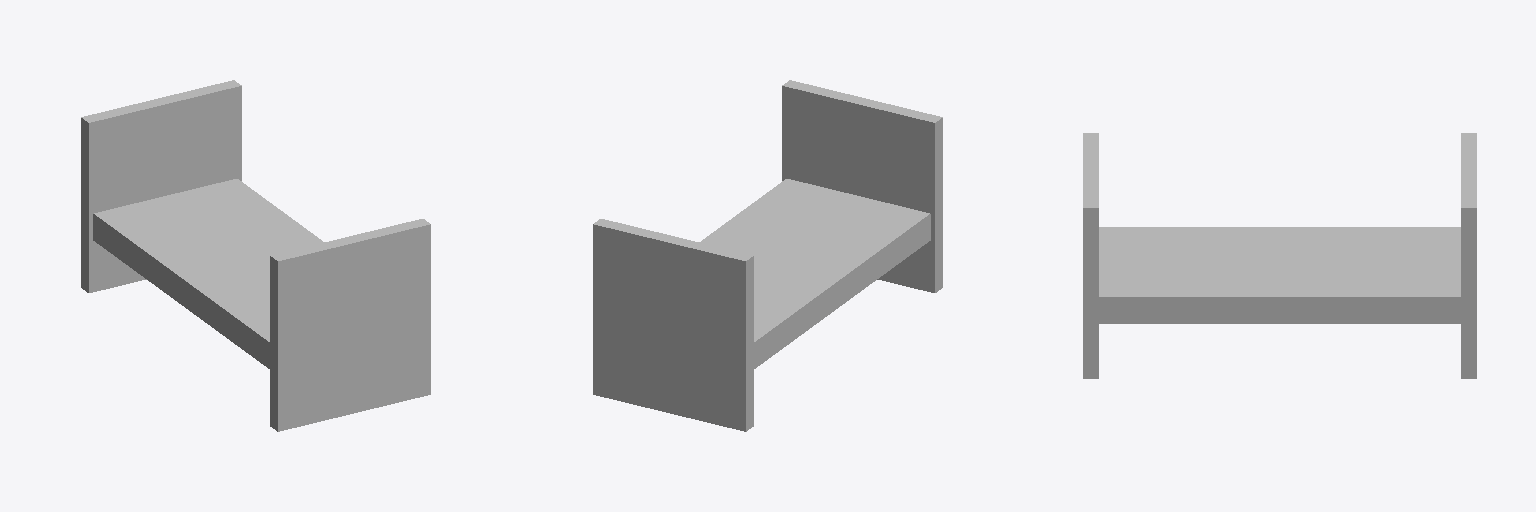
Rendered from Bedobj.obj.
3 renders of one model, left to right at view 1: azimuth 30°, elevation 25°; view 2: azimuth 150°, elevation 25°; view 3: azimuth 270°, elevation 25°, orthographic.
Parts seen in each view (by area): view 1: Cube.001, Cube, Cube.002; view 2: Cube.002, Cube, Cube.001; view 3: Cube, Cube.002, Cube.001.
Part boxes in pixels (x1,y1,x2,y2): Cube.001: (270,219,430,431); Cube: (93,179,324,368); Cube.002: (81,80,241,292); Cube.002: (593,219,753,431); Cube: (699,179,930,368); Cube.001: (782,80,942,292); Cube: (1099,227,1460,323); Cube.002: (1461,133,1476,378); Cube.001: (1083,133,1098,378).
Size of the model in its own units: 2 by 2.13 by 4.46.